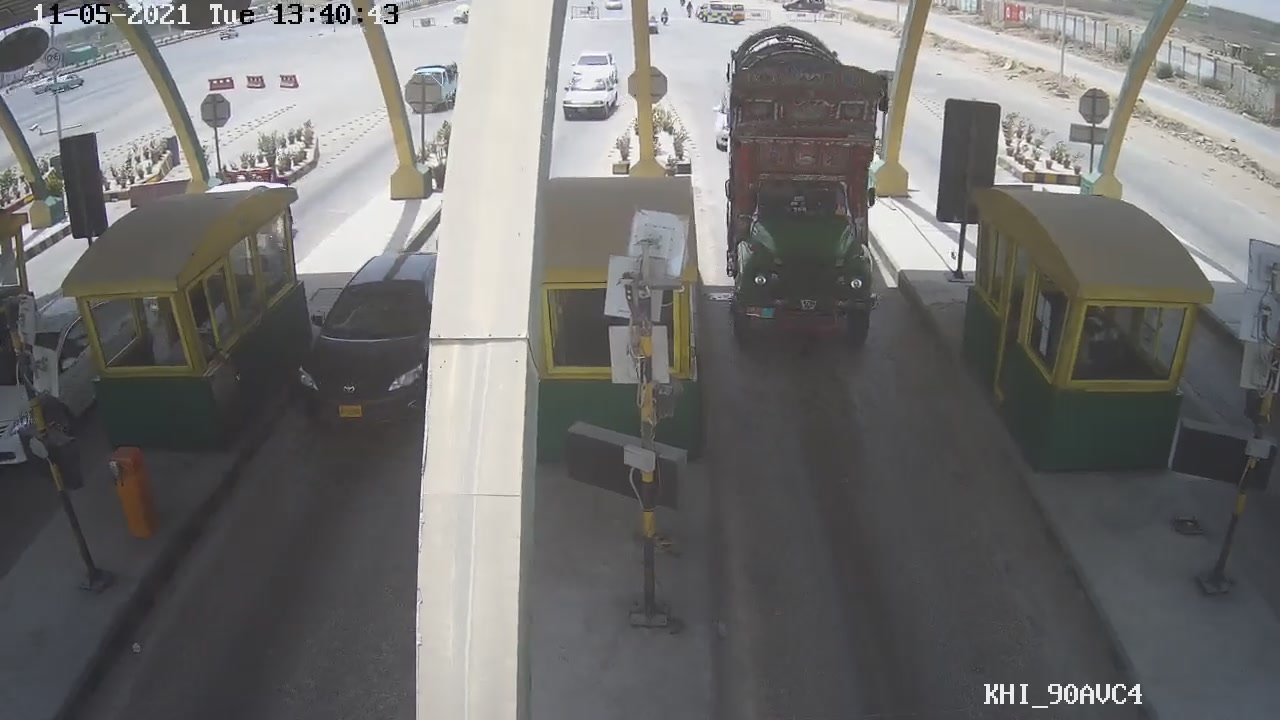F5: (714, 27, 911, 354)
